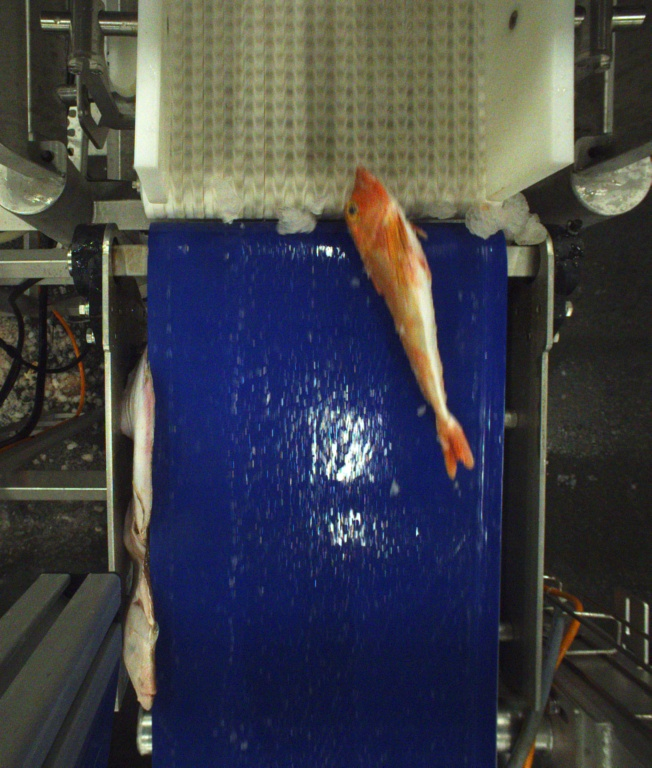GUU: (342, 165, 477, 480)
